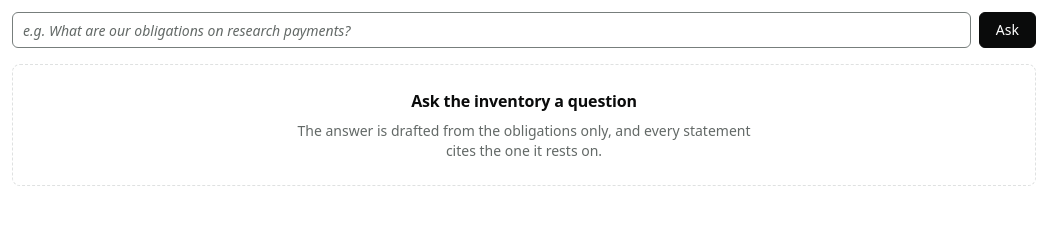
Scenario: AskPanel › shows the loading state until the first statement arrives
Step 1. Type "What are our obligations on research payments?" into the search field named "Question" → coordinates (491, 30), box x1=12 y1=12 x2=971 y2=48
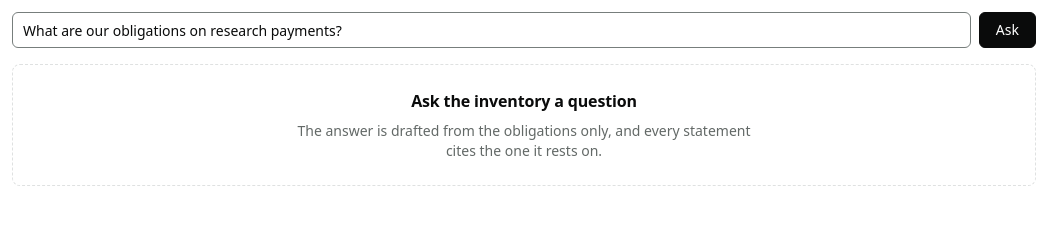
Step 2. Click the button "Ask" → coordinates (1007, 30), box x1=979 y1=12 x2=1036 y2=48
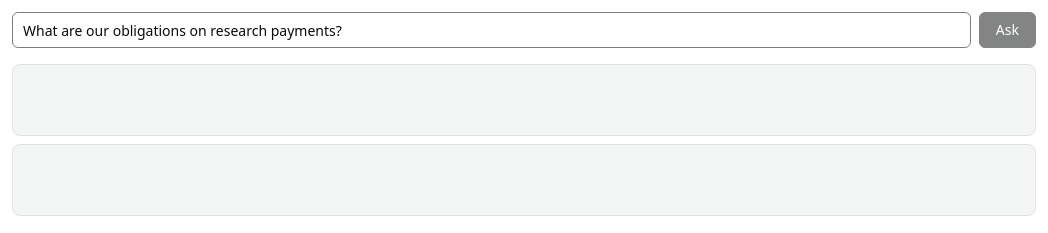
Now the message is shown
